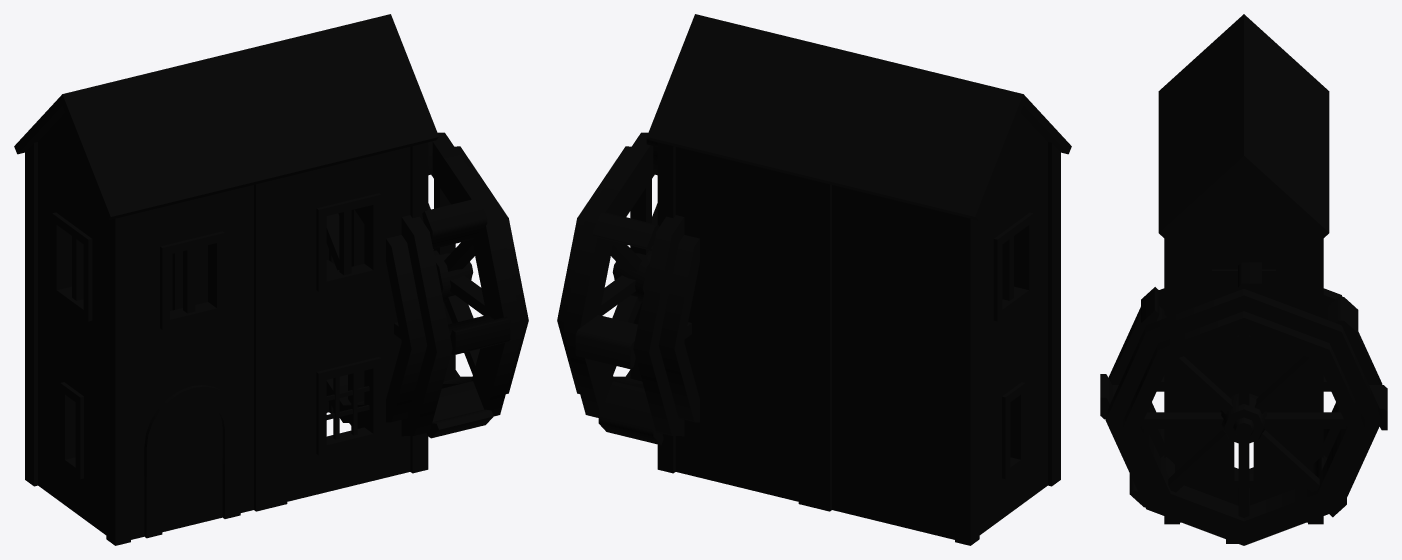
File: house-watermill.glb
The picture shows the model from 3 angles, left to right: view 1: azimuth 30°, elevation 25°; view 2: azimuth 150°, elevation 25°; view 3: azimuth 270°, elevation 25°; orthographic projection. The views are drawn at different scales.
Parts seen in each view (by area): view 1: wall; view 2: wall; view 3: wall.
Boxes of the visible parts, x1,y1,x2,y2 form: wall: (14,14,528,545); wall: (557,14,1071,545); wall: (1100,14,1387,545).
Bounding box in the file's own units: 2.6 × 2.57 × 1.8.
1 material, 1 textured.
